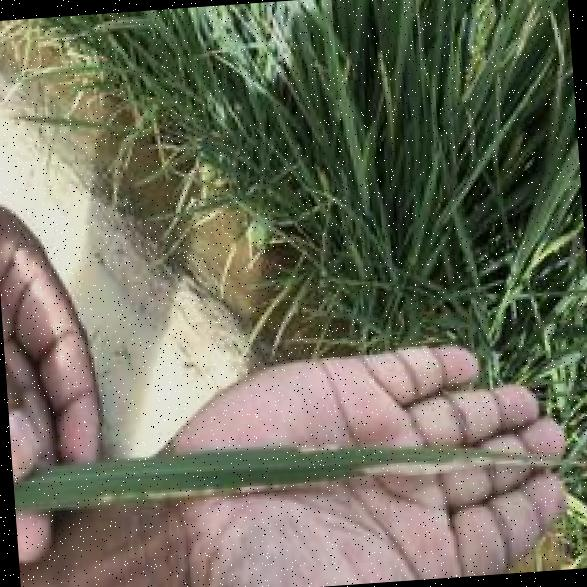Bacteria_Leaf_Blight: (133, 410, 586, 530)
